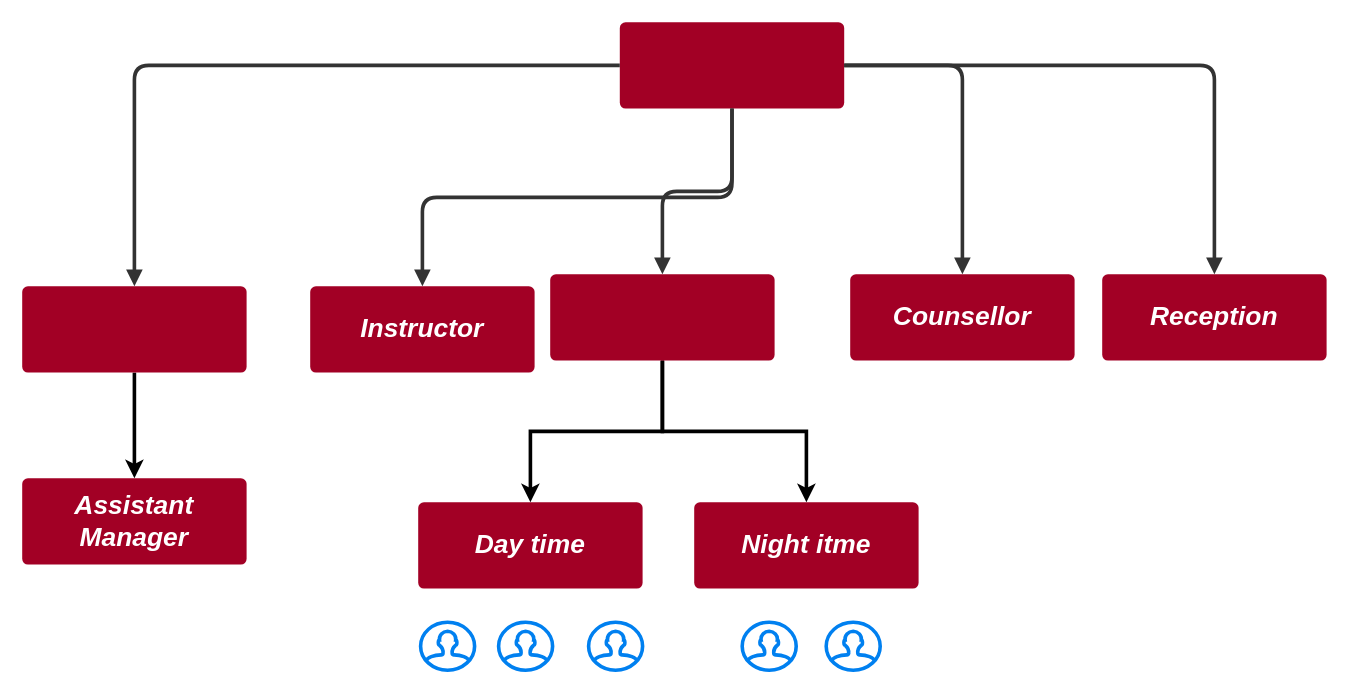
Image size: 1349x692. Some labels were removed from this diagram. The box of each missing label's shape, as (x1, y1, x2, y2) in pixels:
Call center: (548, 272, 776, 362)
Manager: (20, 284, 248, 374)
SES Virtual center: (617, 20, 845, 110)
